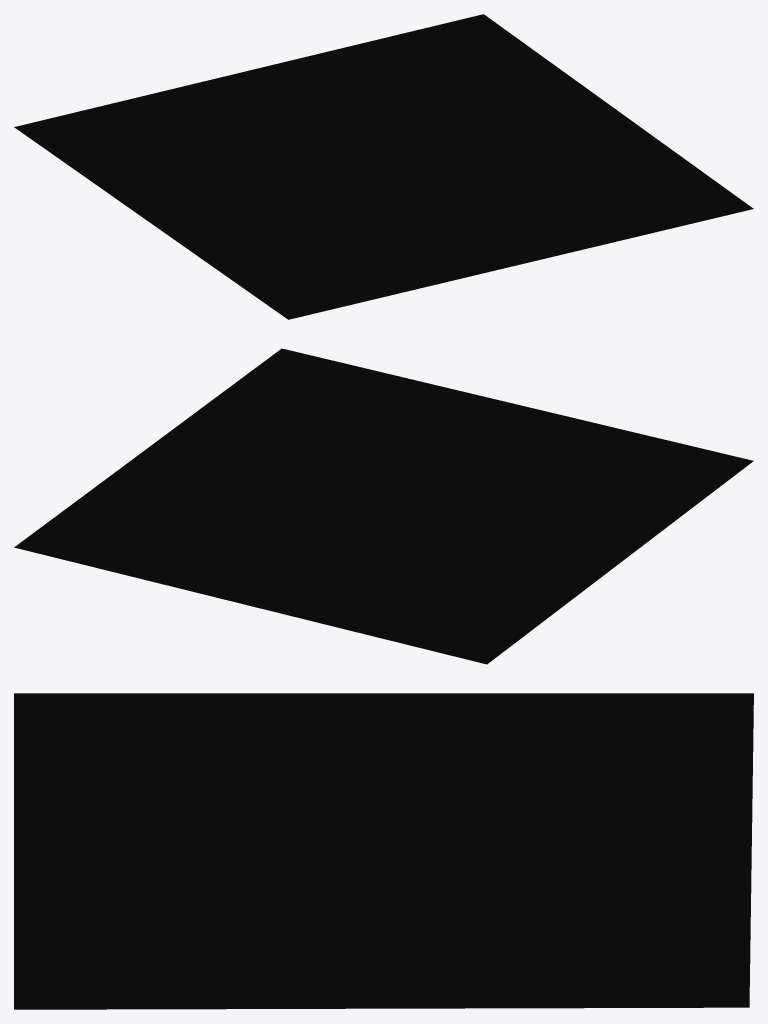
The picture shows the model from 3 angles, top to bottom: view 1: azimuth 30°, elevation 25°; view 2: azimuth 150°, elevation 25°; view 3: azimuth 270°, elevation 25°; orthographic projection. The views are drawn at different scales.
Visible parts, largest first — view 1: Base.001; view 2: Base.001; view 3: Base.001.
Boxes of the visible parts, left/top/right/bottom form: Base.001: left=14, top=14, right=753, bottom=319; Base.001: left=14, top=348, right=753, bottom=664; Base.001: left=14, top=693, right=753, bottom=1009.
Bounding box in the file's own units: 49.81 × 0.2709 × 49.22.
1 material, 1 textured.
